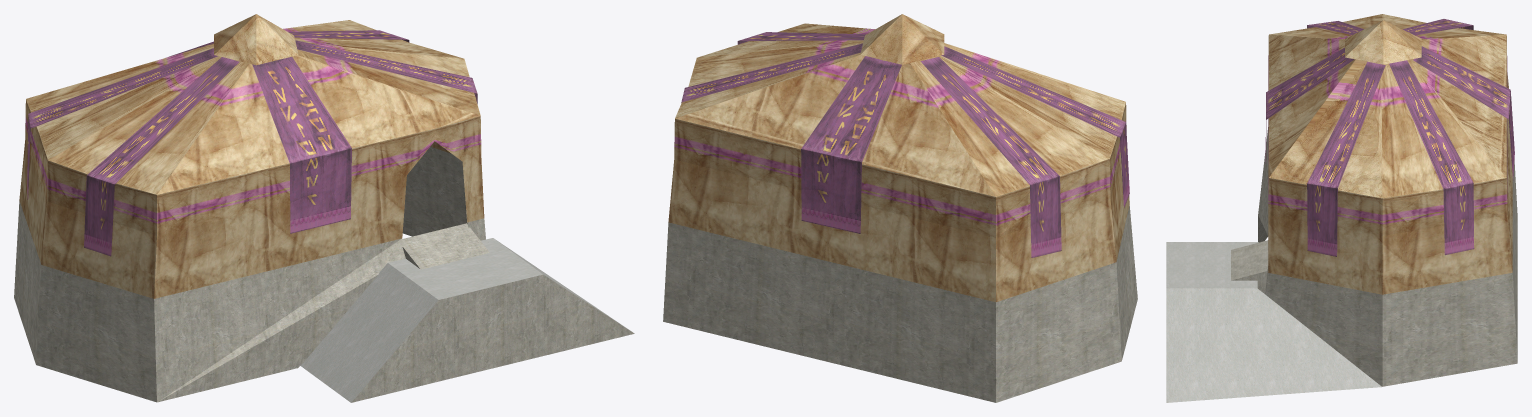
Rendered from ply_corl_idesigner_tent_s01_r0_mesh_l2.fbx.
3 renders of one model, left to right at view 1: azimuth 30°, elevation 25°; view 2: azimuth 150°, elevation 25°; view 3: azimuth 270°, elevation 25°, orthographic. The views are drawn at different scales.
Visible parts, largest first — view 1: mesh_node; view 2: mesh_node; view 3: mesh_node.
Boxes of the visible parts, <box> form: mesh_node: <box>14,14,634,402</box>; mesh_node: <box>663,14,1137,402</box>; mesh_node: <box>1166,14,1517,402</box>.
Bounding box in the file's own units: 17.22 × 10.19 × 12.03.
